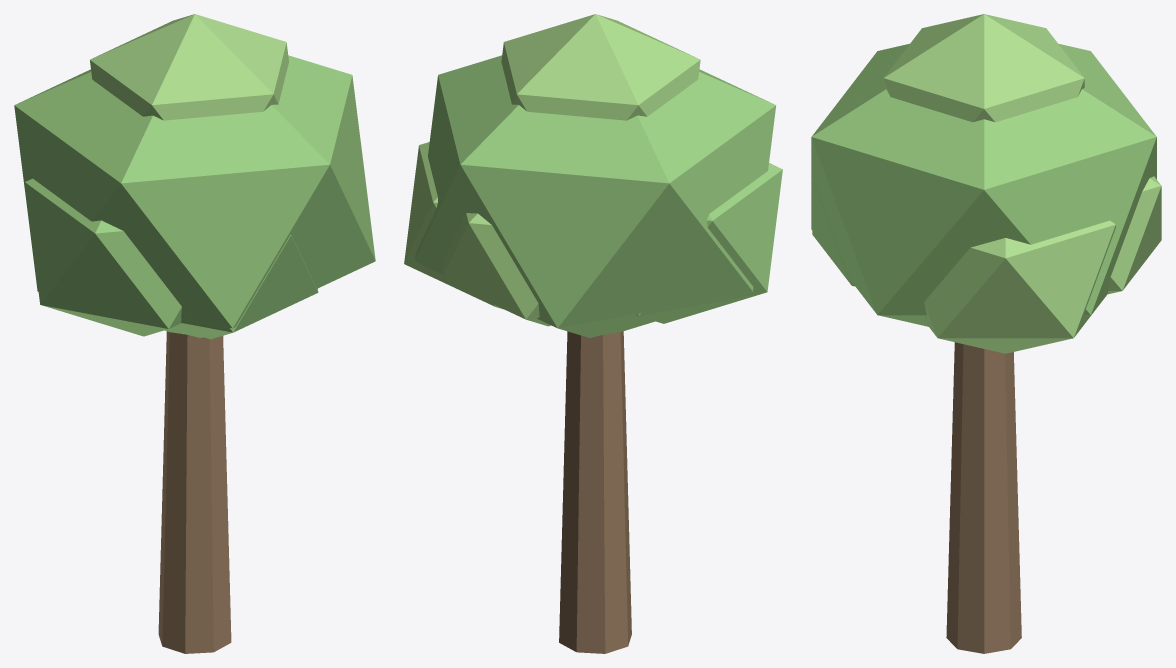
Rendered from tree.glb.
3 views of the same model, side by side, from view 1: azimuth 30°, elevation 25°; view 2: azimuth 150°, elevation 25°; view 3: azimuth 270°, elevation 25° (orthographic).
Parts seen in each view (by area): view 1: Tree; view 2: Tree; view 3: Tree.
Part boxes in pixels (bbox=[...]): Tree: bbox=[14, 14, 375, 653]; Tree: bbox=[404, 14, 782, 653]; Tree: bbox=[811, 14, 1161, 653].
Bounding box in the file's own units: 1.76 × 3.2 × 1.63.
